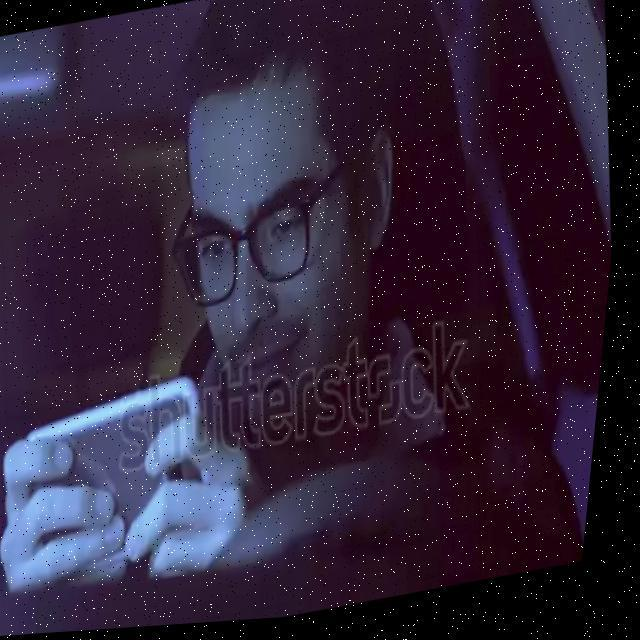PhoneCall: (11, 374, 232, 576)
